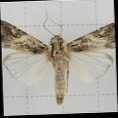Spodoptera litura: (1, 5, 115, 106)
